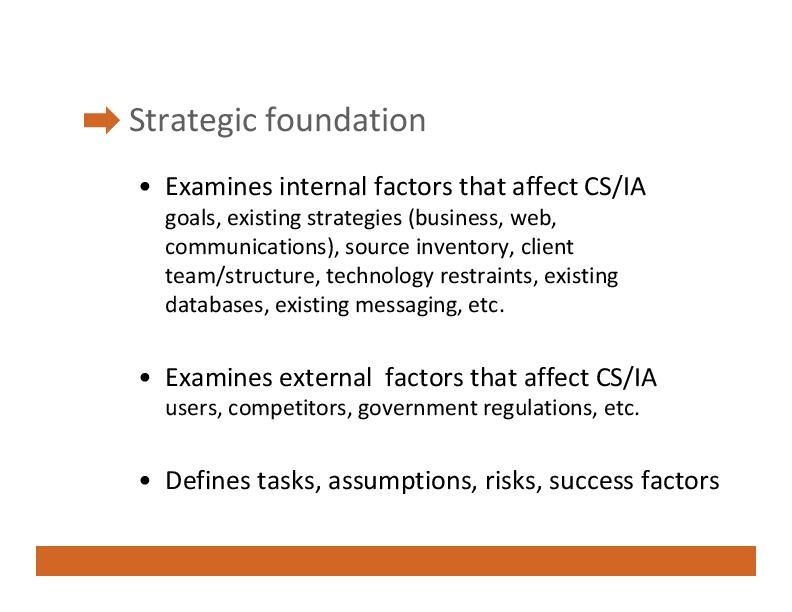paragraph: (161, 166, 762, 514)
title: (127, 93, 438, 144)
